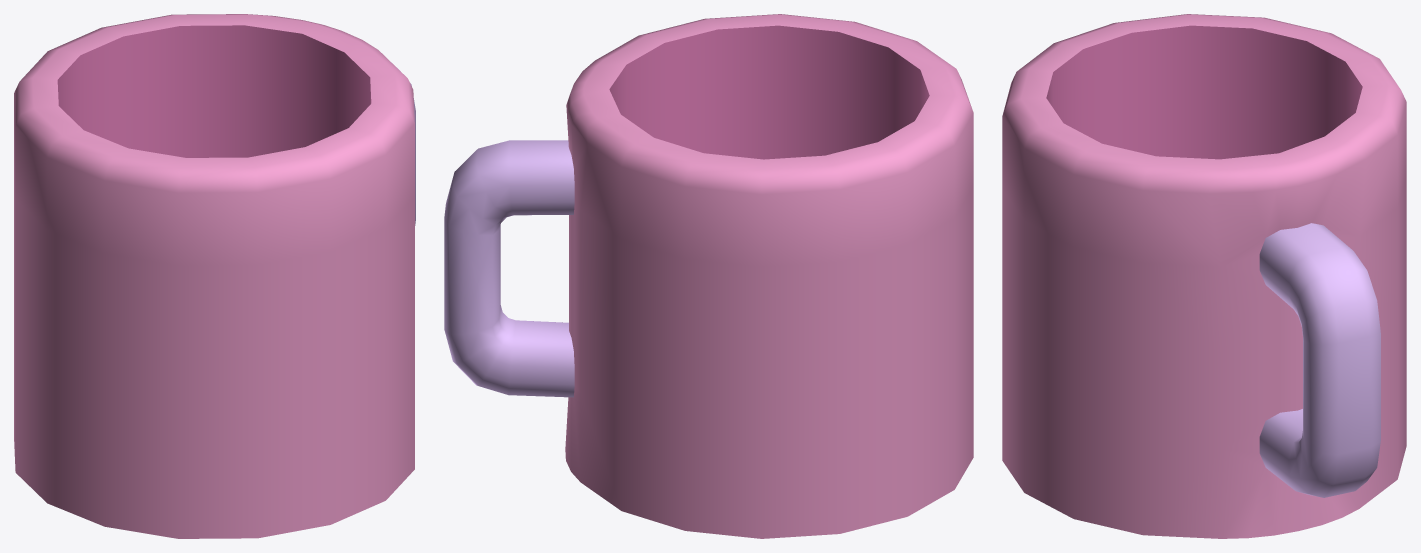
Rendered from 3d_Mug.fbx.
3 views of the same model, side by side, from view 1: azimuth 30°, elevation 25°; view 2: azimuth 150°, elevation 25°; view 3: azimuth 270°, elevation 25° (orthographic).
Parts seen in each view (by area): view 1: 3d_Mug; view 2: 3d_Mug; view 3: 3d_Mug.
Part boxes in pixels (x1,y1,x2,y2): 3d_Mug: (14,14,415,538); 3d_Mug: (444,14,973,538); 3d_Mug: (1002,14,1406,538).
Bounding box in the file's own units: 0.1199 × 0.0952 × 0.0965.
